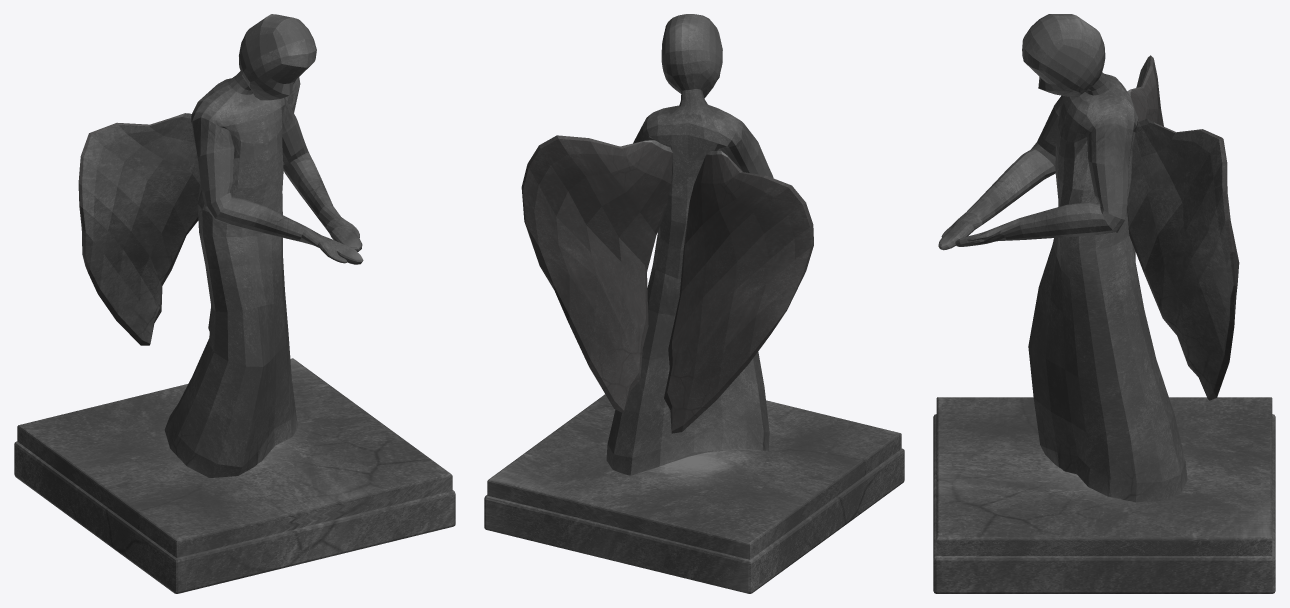
File: AngelStatue003_Model.fbx
3 renders of one model, left to right at view 1: azimuth 30°, elevation 25°; view 2: azimuth 150°, elevation 25°; view 3: azimuth 270°, elevation 25°, orthographic. The views are drawn at different scales.
Visible parts, largest first — view 1: AngelStatue003; view 2: AngelStatue003; view 3: AngelStatue003.
Part boxes in pixels (<box>): AngelStatue003: <box>14,14,455,593</box>; AngelStatue003: <box>484,14,904,593</box>; AngelStatue003: <box>933,14,1275,593</box>.
Bounding box in the file's own units: 164 × 275 × 164.
